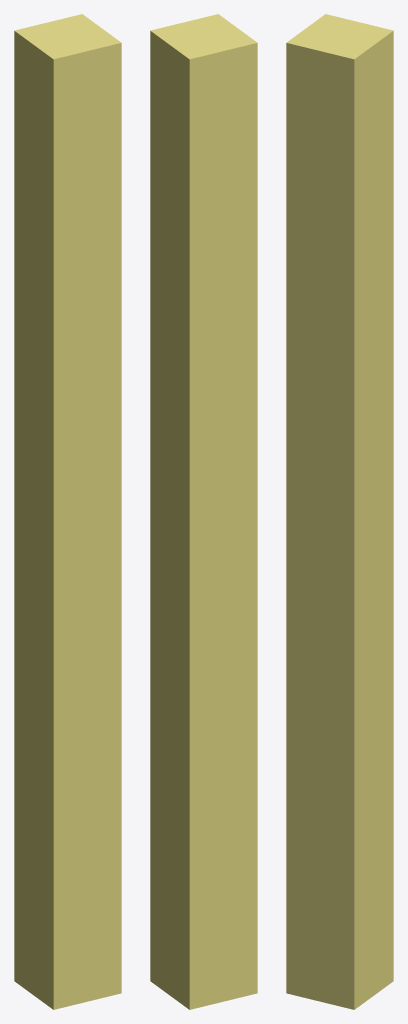
File: original-9.obj
3 renders of one model, left to right at view 1: azimuth 30°, elevation 25°; view 2: azimuth 210°, elevation 25°; view 3: azimuth 330°, elevation 25°, orthographic.
Parts seen in each view (by area): view 1: leg3/leg/mesh12/mesh12-geometry#mesh12-geometry; view 2: leg3/leg/mesh12/mesh12-geometry#mesh12-geometry; view 3: leg3/leg/mesh12/mesh12-geometry#mesh12-geometry.
Boxes of the visible parts, x1=… form: leg3/leg/mesh12/mesh12-geometry#mesh12-geometry: x1=14, y1=14, x2=121, y2=1009; leg3/leg/mesh12/mesh12-geometry#mesh12-geometry: x1=150, y1=14, x2=257, y2=1009; leg3/leg/mesh12/mesh12-geometry#mesh12-geometry: x1=286, y1=14, x2=393, y2=1009.
Bounding box in the file's own units: 0.048 × 0.6394 × 0.048.
